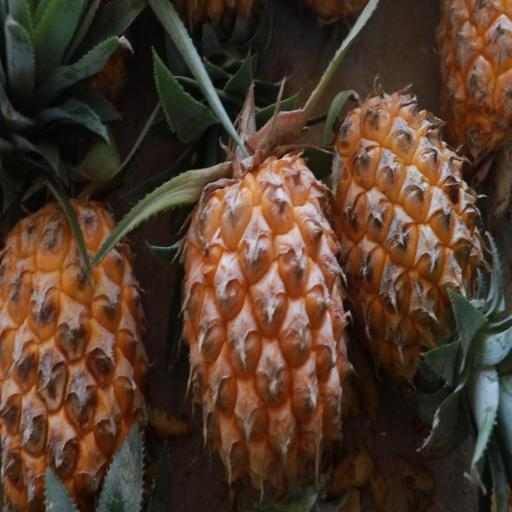Pineapple - v8 v1: (180, 115, 354, 512), (0, 122, 153, 512), (331, 83, 490, 405)
